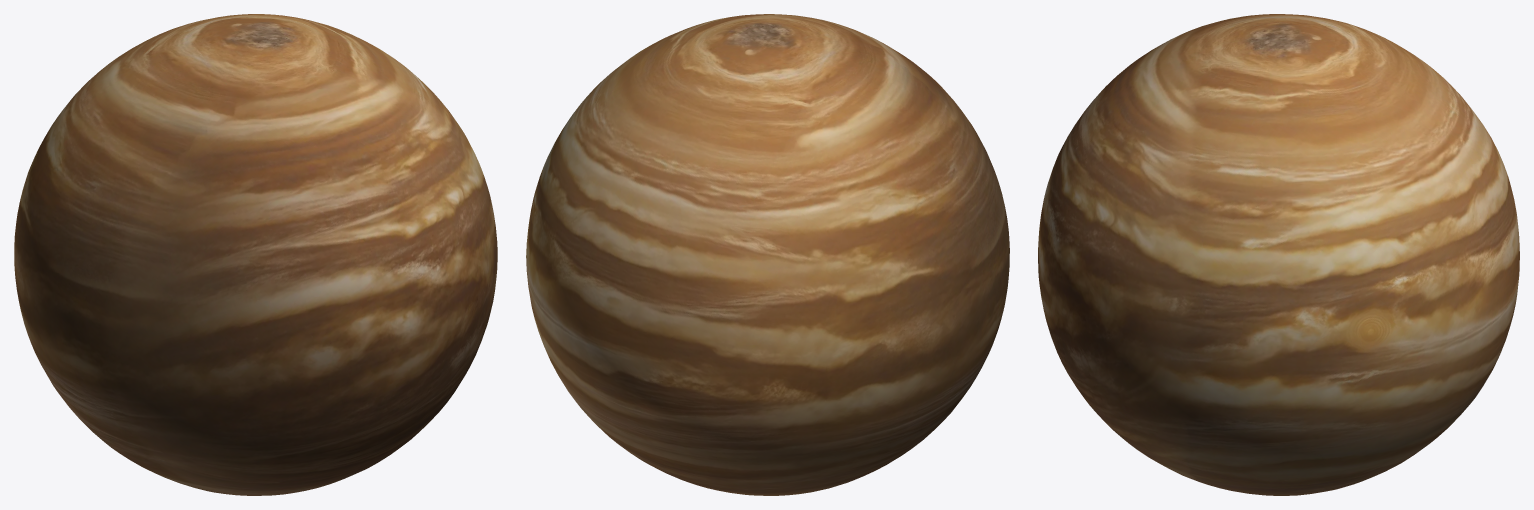
File: gas_planet_3.glb
The picture shows the model from 3 angles, left to right: view 1: azimuth 30°, elevation 25°; view 2: azimuth 150°, elevation 25°; view 3: azimuth 270°, elevation 25°; orthographic projection.
Visible parts, largest first — view 1: Mesh_0.022; view 2: Mesh_0.022; view 3: Mesh_0.022.
Boxes of the visible parts, box(x1,y1,x2,y2) form: Mesh_0.022: box(14, 14, 497, 495); Mesh_0.022: box(526, 14, 1009, 495); Mesh_0.022: box(1038, 14, 1519, 495).
Bounding box in the file's own units: 2 × 2 × 2.
1 material, 1 textured.
